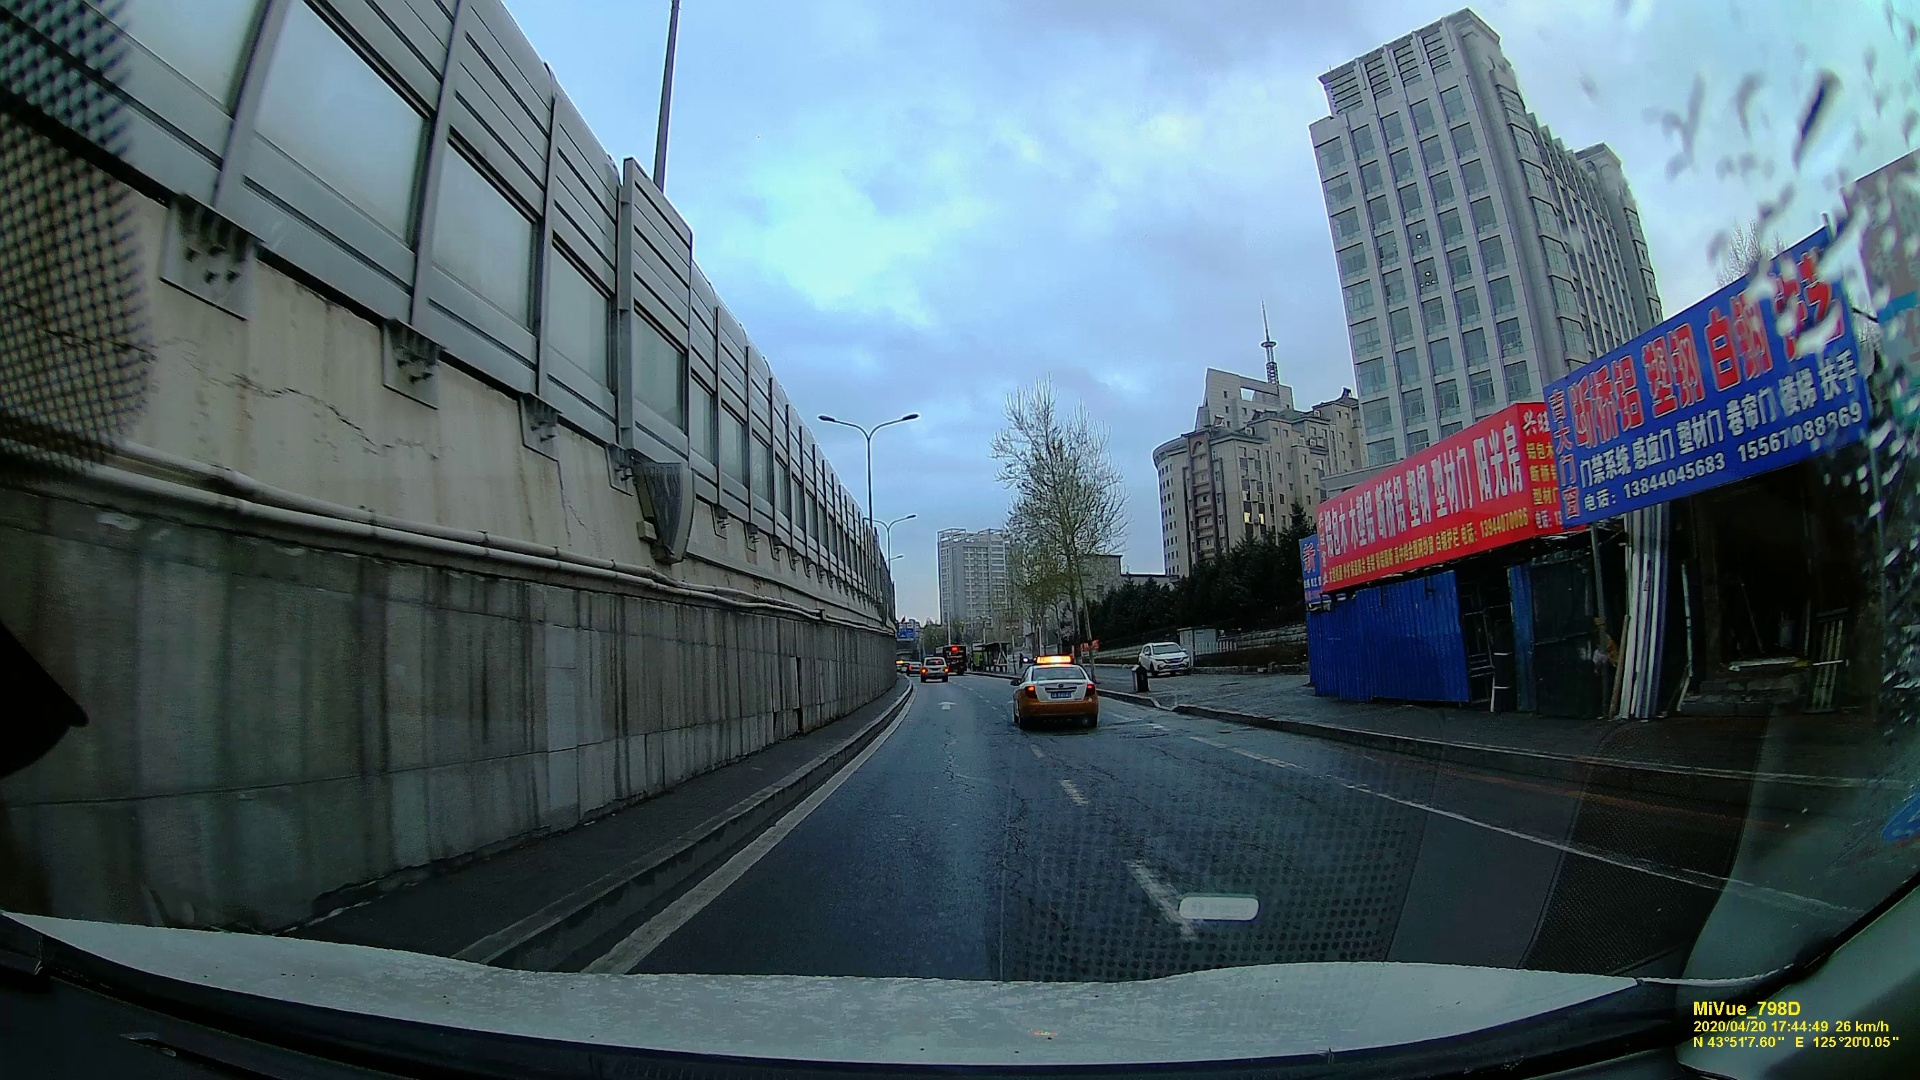bus: (936, 644, 967, 675)
vehicle: (1007, 659, 1101, 729), (1137, 642, 1189, 678), (919, 655, 949, 684)
